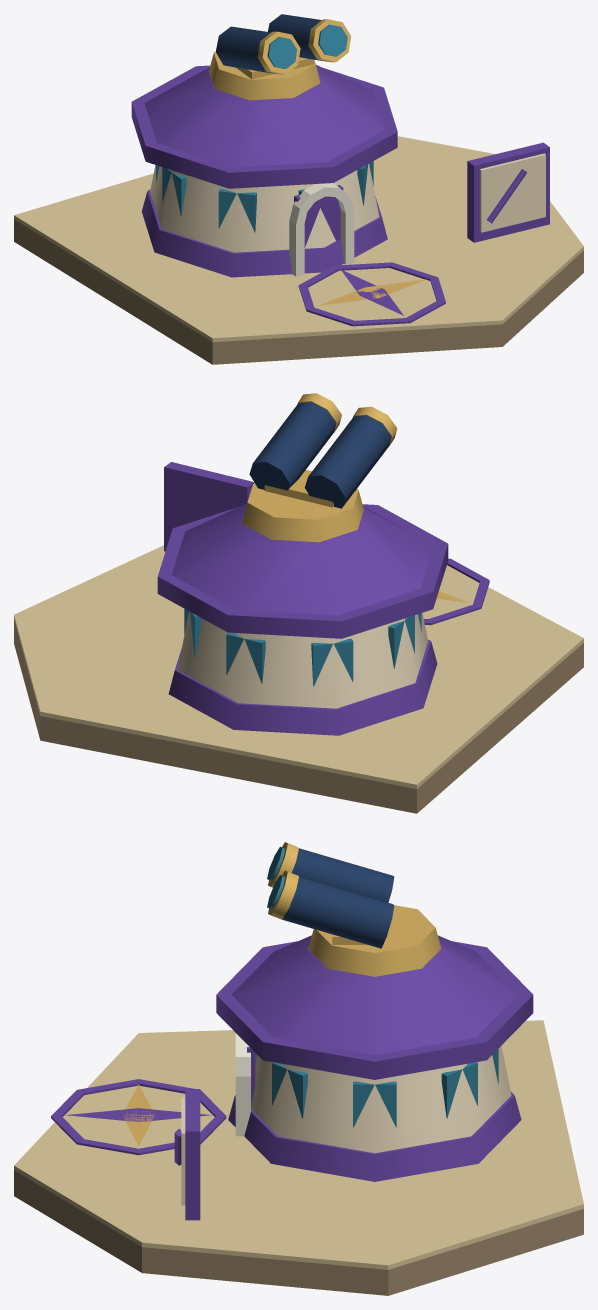
The model's file is scout-center-lv1.glb.
3 renders of one model, top to bottom at view 1: azimuth 30°, elevation 25°; view 2: azimuth 150°, elevation 25°; view 3: azimuth 270°, elevation 25°, orthographic. The views are drawn at different scales.
Visible parts, largest first — view 1: foundation_sand, faceted_roof_violet, foundation_stoneDark, octagonal_office_cream, observation_eave_violet, office_plinth_violet, map_board_cream, compass_violet, roof_binoculars_naval, optic_pedestal_gold, map_board_violet, entrance_arch_white (+5 smaller); view 2: foundation_sand, faceted_roof_violet, foundation_stoneDark, octagonal_office_cream, observation_eave_violet, roof_binoculars_naval, office_plinth_violet, optic_pedestal_gold, map_board_violet, office_windows_glass, optic_rims_gold, compass_violet (+1 smaller); view 3: foundation_sand, faceted_roof_violet, octagonal_office_cream, foundation_stoneDark, observation_eave_violet, office_plinth_violet, roof_binoculars_naval, optic_pedestal_gold, compass_violet, office_windows_glass, map_board_violet, entrance_arch_white (+3 smaller).
Part boxes in pixels (<box>): foundation_sand: <box>14,136,583,342</box>; faceted_roof_violet: <box>144,65,384,167</box>; foundation_stoneDark: <box>14,219,583,364</box>; octagonal_office_cream: <box>150,163,379,252</box>; observation_eave_violet: <box>131,65,397,188</box>; office_plinth_violet: <box>141,189,387,277</box>; map_board_cream: <box>479,153,545,232</box>; compass_violet: <box>298,262,445,326</box>; roof_binoculars_naval: <box>215,14,328,73</box>; optic_pedestal_gold: <box>209,51,320,100</box>; map_board_violet: <box>467,142,549,242</box>; entrance_arch_white: <box>289,183,354,276</box>; foundation_sand: <box>14,545,583,788</box>; faceted_roof_violet: <box>171,503,434,615</box>; foundation_stoneDark: <box>14,620,583,813</box>; octagonal_office_cream: <box>178,611,428,708</box>; observation_eave_violet: <box>157,504,448,638</box>; roof_binoculars_naval: <box>249,402,391,508</box>; office_plinth_violet: <box>168,639,437,735</box>; optic_pedestal_gold: <box>242,483,363,542</box>; map_board_violet: <box>164,462,254,551</box>; office_windows_glass: <box>184,609,421,686</box>; optic_rims_gold: <box>297,393,397,446</box>; compass_violet: <box>423,558,489,625</box>; foundation_sand: <box>14,1020,583,1269</box>; faceted_roof_violet: <box>231,935,517,1055</box>; octagonal_office_cream: <box>251,1046,511,1153</box>; foundation_stoneDark: <box>14,1170,583,1295</box>; observation_eave_violet: <box>216,941,533,1079</box>; office_plinth_violet: <box>228,1091,521,1181</box>; roof_binoculars_naval: <box>282,848,394,948</box>; optic_pedestal_gold: <box>308,905,441,976</box>; compass_violet: <box>51,1079,226,1155</box>; office_windows_glass: <box>255,1049,498,1127</box>; map_board_violet: <box>185,1089,200,1220</box>; entrance_arch_white: <box>235,1033,250,1136</box>.
Bounding box in the file's own units: 1 × 0.5571 × 0.9826.
